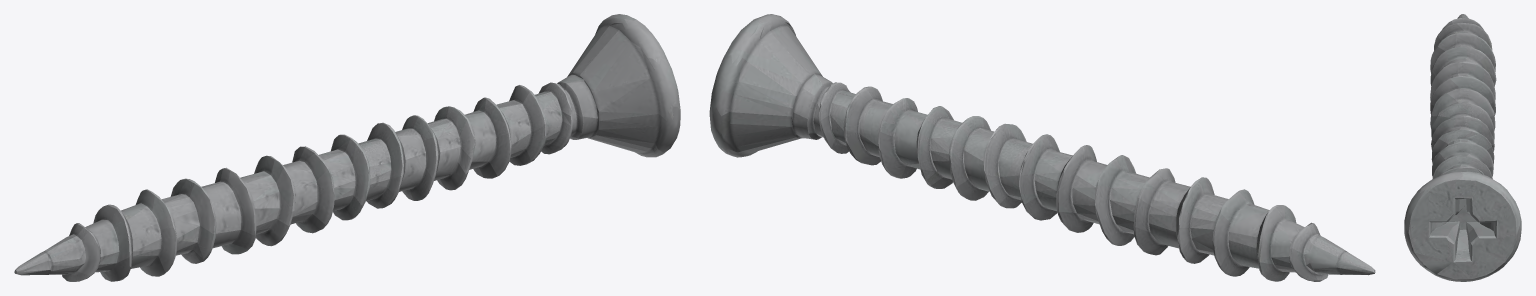
Rendered from screw.glb.
3 views of the same model, side by side, from view 1: azimuth 30°, elevation 25°; view 2: azimuth 150°, elevation 25°; view 3: azimuth 270°, elevation 25° (orthographic). The views are drawn at different scales.
Parts seen in each view (by area): view 1: output_unwrapped; view 2: output_unwrapped; view 3: output_unwrapped.
Part boxes in pixels (box(x1,y1,x2,y2)): output_unwrapped: box(14, 14, 680, 281); output_unwrapped: box(709, 14, 1375, 281); output_unwrapped: box(1404, 14, 1521, 281).
Bounding box in the file's own units: 1.9 × 0.3869 × 0.3859.
1 material, 1 textured.
